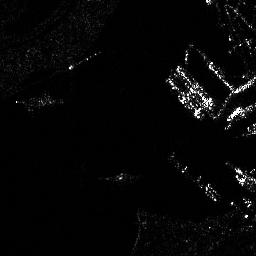ship: (173, 63, 214, 110), (166, 73, 203, 122)
